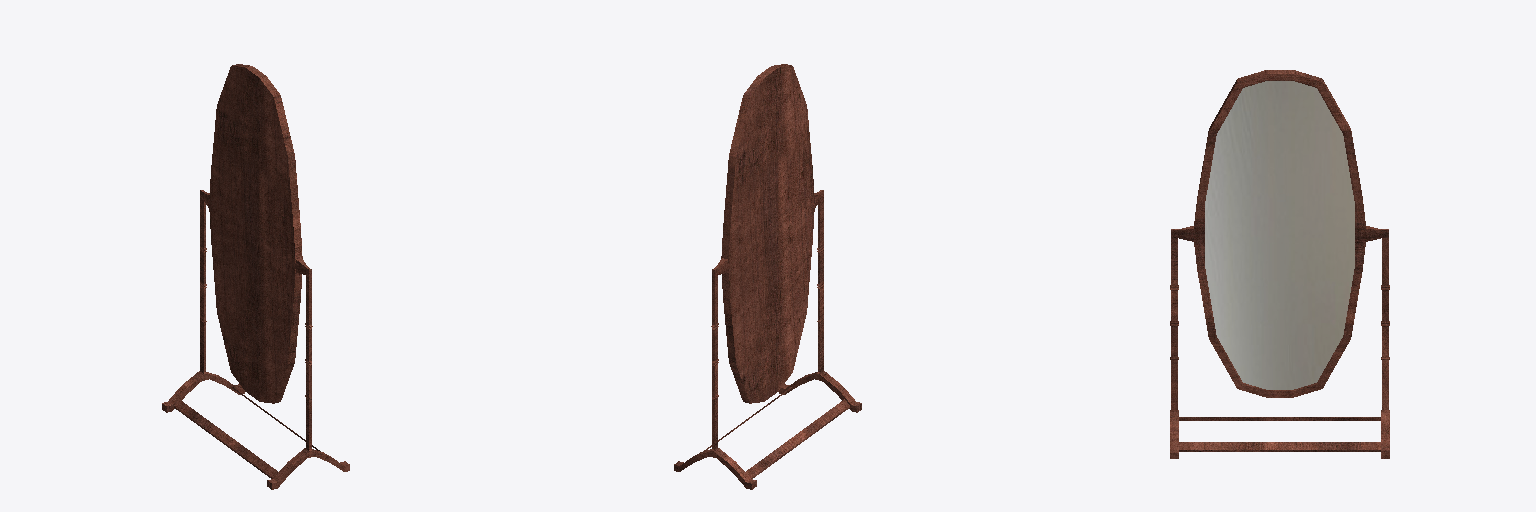
3 views of the same model, side by side, from view 1: azimuth 30°, elevation 25°; view 2: azimuth 150°, elevation 25°; view 3: azimuth 270°, elevation 25° (orthographic).
Parts seen in each view (by area): view 1: Box001; view 2: Box001; view 3: Box001.
Boxes of the visible parts, <box> form: Box001: <box>162,64,349,489</box>; Box001: <box>674,64,861,489</box>; Box001: <box>1170,70,1389,458</box>.
Bounding box in the file's own units: 0.4209 × 1.9 × 1.03.
Materials: 1 (1 with a texture image).